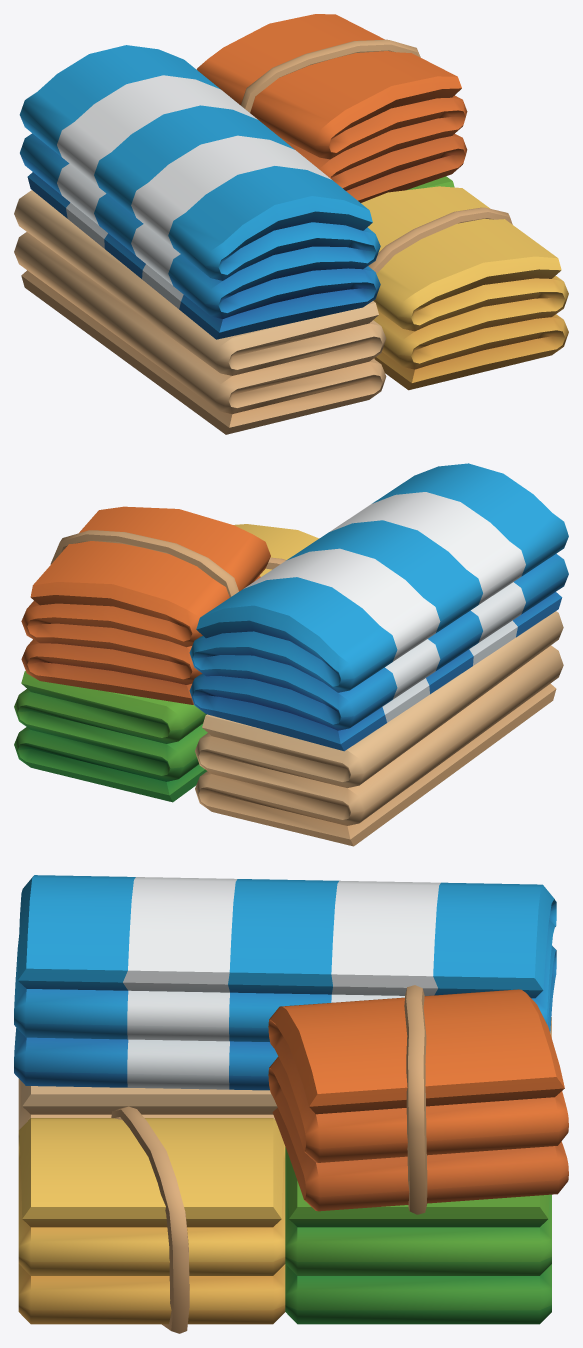
File: Textiles_Stack_Large_Colored.glb
The picture shows the model from 3 angles, top to bottom: view 1: azimuth 30°, elevation 25°; view 2: azimuth 150°, elevation 25°; view 3: azimuth 270°, elevation 25°; orthographic projection. The views are drawn at different scales.
Parts seen in each view (by area): view 1: Textiles_Stack_Large_Colored; view 2: Textiles_Stack_Large_Colored; view 3: Textiles_Stack_Large_Colored.
Boxes of the visible parts, x1,y1,x2,y2 form: Textiles_Stack_Large_Colored: (14, 14, 568, 434); Textiles_Stack_Large_Colored: (14, 463, 568, 846); Textiles_Stack_Large_Colored: (14, 875, 568, 1333).
Bounding box in the file's own units: 1.64 × 0.9556 × 1.66.
1 material, 1 textured.
